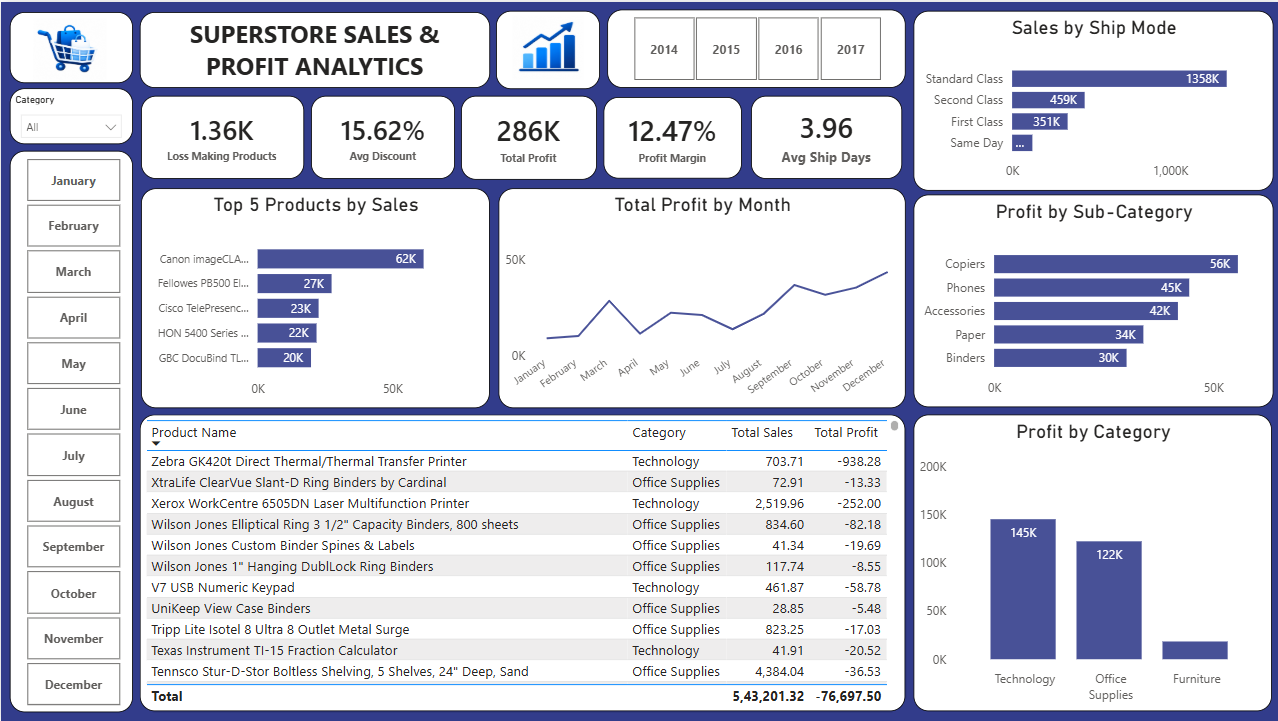

The dashboard page shown, as its layout file describes it:
{"tool":"powerbi","page":{"name":"Profit Analysis","canvas":[1280,720],"ordinal":1},"visuals":[{"type":"textbox","box":[494.5,8.6,104.3,78.5],"z":0},{"type":"cardVisual","title":"Total Profit","fields":{"Data":["_Measures.Total Profit"]},"box":[459.9,94.1,135.7,84.3],"z":0,"group":"g1"},{"type":"cardVisual","title":"Loss Making Orders","fields":{"Data":["_Measures.Loss Making Products"]},"box":[139.9,94.3,162.9,82.9],"z":1000,"group":"g1"},{"type":"clusteredBarChart","title":"Profit by Sub-Category","fields":{"Category":["dim_Product.Sub-Category"],"Y":["_Measures.Total Profit"]},"box":[912.9,192.9,360,212.9],"z":1000},{"type":"cardVisual","title":"Profit Margin %","fields":{"Data":["_Measures.Profit Margin %"]},"box":[602.8,95.5,138.6,81.4],"z":2000,"group":"g1"},{"type":"clusteredColumnChart","title":"Profit by Category","fields":{"Category":["dim_Product.Category"],"Y":["_Measures.Total Profit"]},"box":[912.9,412.9,358.6,297.1],"z":2000},{"type":"tableEx","title":"\tLoss-Making Products","fields":{"Values":["dim_Product.Product Name","dim_Product.Category","_Measures.Total Sales","_Measures.Total Profit"]},"box":[138.6,412.9,765.7,297.1],"z":3000},{"type":"slicer","title":"Category","fields":{"Values":["dim_Product.Category"]},"box":[8.6,85.7,122.9,55.7],"z":4000},{"type":"slicer","title":"Year","fields":{"Values":["Date_Table.Year"]},"box":[605.7,7.1,298.6,78.6],"z":5000},{"type":"textbox","box":[138.6,10,350,75.7],"z":6000},{"type":"clusteredBarChart","title":"Top 5 Products by Sales","fields":{"Category":["dim_Product.Product Name"],"Y":["_Measures.Total Sales"]},"box":[140,185.7,348.6,220],"z":7000},{"type":"clusteredBarChart","title":"Sales by Ship Mode","fields":{"Category":["fact_Orders.Ship Mode"],"Y":["_Measures.Total Sales"]},"box":[912.9,8.6,360,180],"z":8000},{"type":"group","id":"g1","title":"Group 1","box":[139.9,94.1,761.4,84.3],"z":9000},{"type":"image","box":[511.4,14.3,71.4,64.3],"z":10000},{"type":"cardVisual","title":"Profit Margin %","fields":{"Data":["_Measures.Avg Discount"]},"box":[309.9,94.1,144.3,82.9],"z":10000,"group":"g1"},{"type":"textbox","box":[8.6,10,122.9,71.4],"z":11000},{"type":"cardVisual","title":"Profit Margin %","fields":{"Data":["_Measures.Avg Ship Days"]},"box":[749.9,94.2,151.4,82.9],"z":11000,"group":"g1"},{"type":"image","box":[32.9,15.7,72.9,61.4],"z":12000},{"type":"textbox","box":[8.6,148.6,122.9,561.4],"z":13000},{"type":"slicer","fields":{"Values":["Date_Table.Month"]},"box":[0,150,142.9,560],"z":14000},{"type":"lineChart","fields":{"Category":["Date_Table.Month"],"Y":["_Measures.Total Profit"]},"box":[497.1,185.7,407.1,220],"z":15000}]}

Visuals, with their boxes in screenshot pixels (x1, y1, x2, y2), scaled from the page's 1280x720 canvas onto the 1278x721 screenshot:
textbox: (494, 9, 598, 87)
"Total Profit" cardVisual: (459, 94, 595, 179)
"Loss Making Orders" cardVisual: (140, 94, 302, 177)
"Profit by Sub-Category" clusteredBarChart: (911, 193, 1271, 406)
"Profit Margin %" cardVisual: (602, 96, 740, 177)
"Profit by Category" clusteredColumnChart: (911, 413, 1270, 711)
"	Loss-Making Products" tableEx: (138, 413, 903, 711)
"Category" slicer: (9, 86, 131, 142)
"Year" slicer: (605, 7, 903, 86)
textbox: (138, 10, 488, 86)
"Top 5 Products by Sales" clusteredBarChart: (140, 186, 488, 406)
"Sales by Ship Mode" clusteredBarChart: (911, 9, 1271, 189)
"Group 1" group: (140, 94, 900, 179)
image: (511, 14, 582, 79)
"Profit Margin %" cardVisual: (309, 94, 453, 177)
textbox: (9, 10, 131, 82)
"Profit Margin %" cardVisual: (749, 94, 900, 177)
image: (33, 16, 106, 77)
textbox: (9, 149, 131, 711)
slicer - Date_Table.Month: (0, 150, 143, 711)
lineChart - Date_Table.Month x _Measures.Total Profit: (496, 186, 903, 406)
